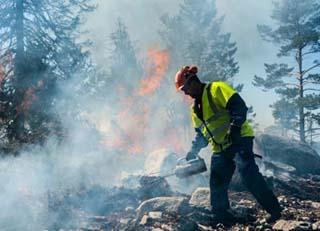fire: (103, 35, 175, 147)
